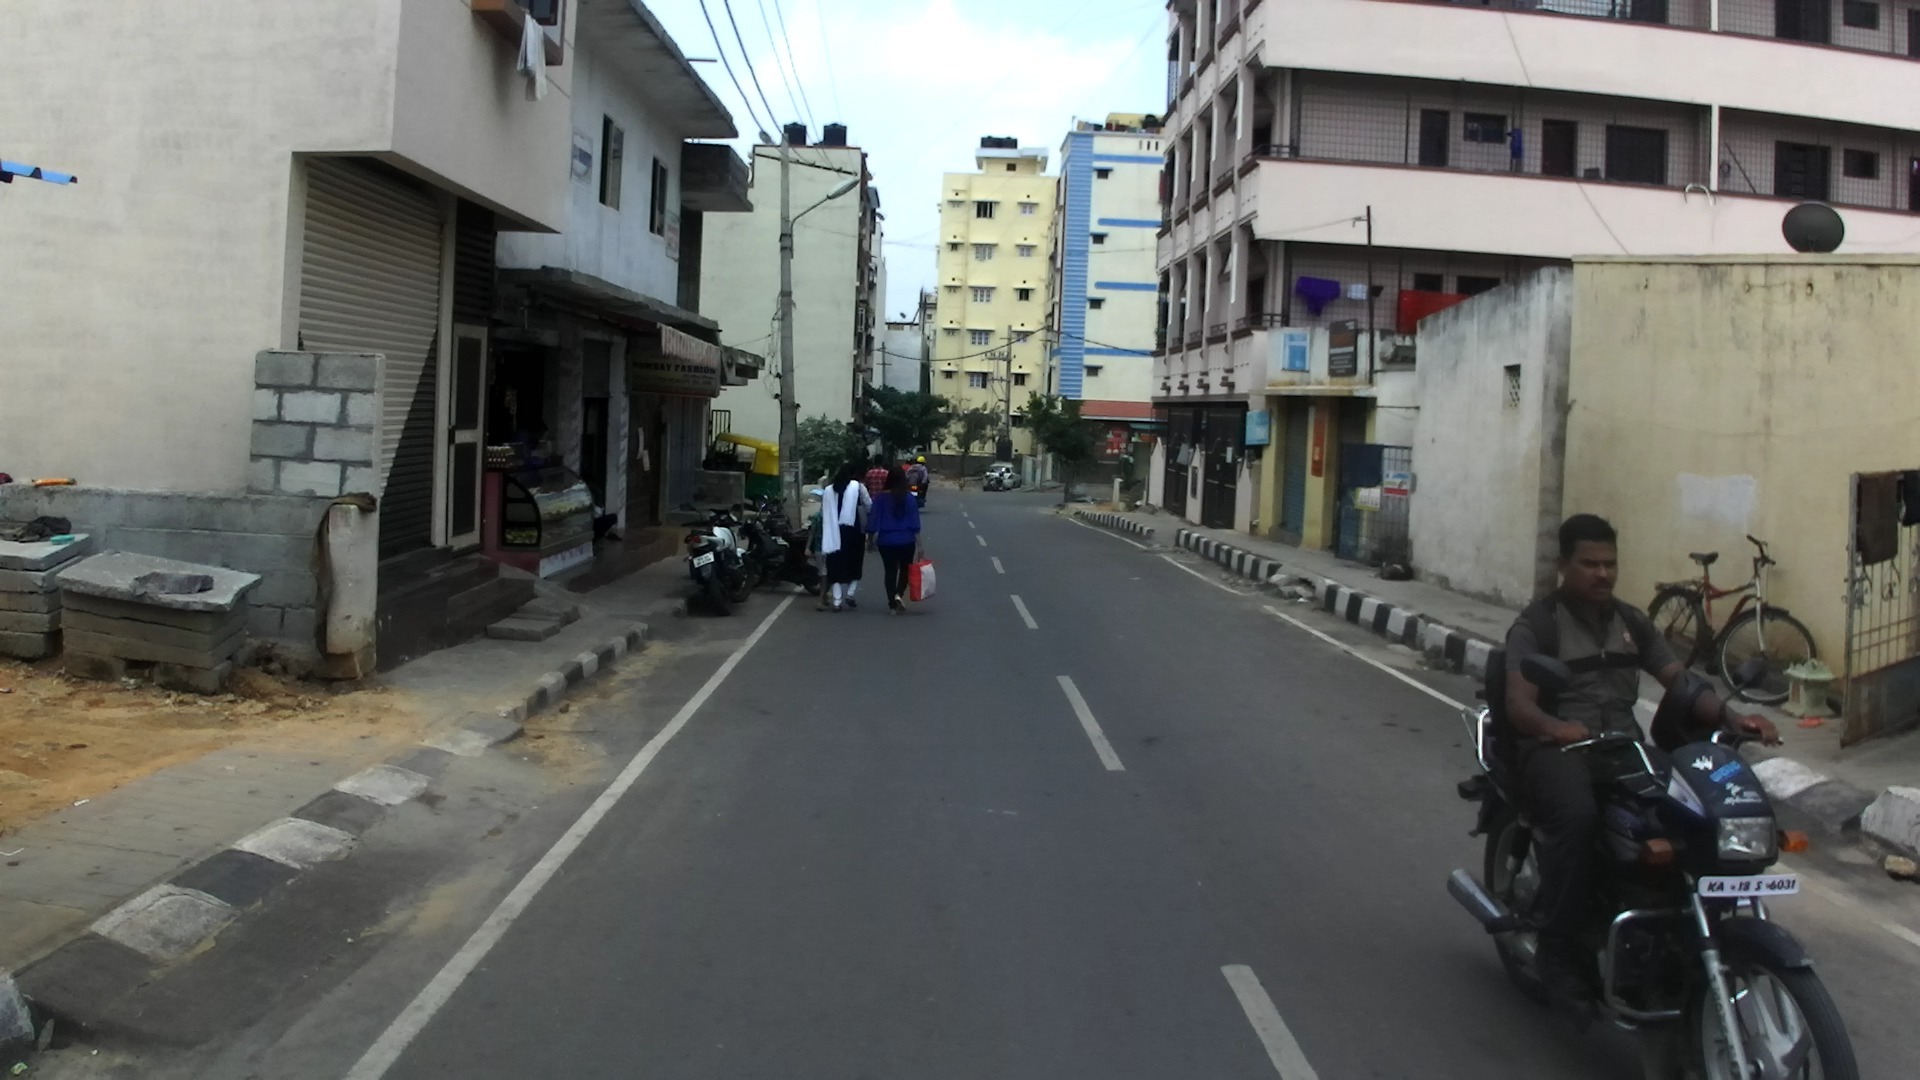animal: (1377, 561, 1414, 582)
autorickshaw: (701, 434, 789, 510)
bicycle: (1647, 535, 1817, 705)
car: (983, 461, 1022, 493)
motorcycle: (1443, 654, 1866, 1080), (678, 500, 757, 615), (735, 494, 821, 595), (759, 494, 822, 594), (767, 494, 813, 539), (907, 469, 936, 509), (986, 471, 1005, 492)
person: (862, 464, 924, 616), (819, 463, 874, 613), (579, 472, 617, 546), (805, 514, 828, 614), (863, 452, 890, 503), (512, 416, 547, 448)
rider: (1495, 510, 1781, 1020), (906, 454, 926, 506), (1119, 449, 1129, 474), (902, 455, 913, 473), (1127, 453, 1134, 472)
